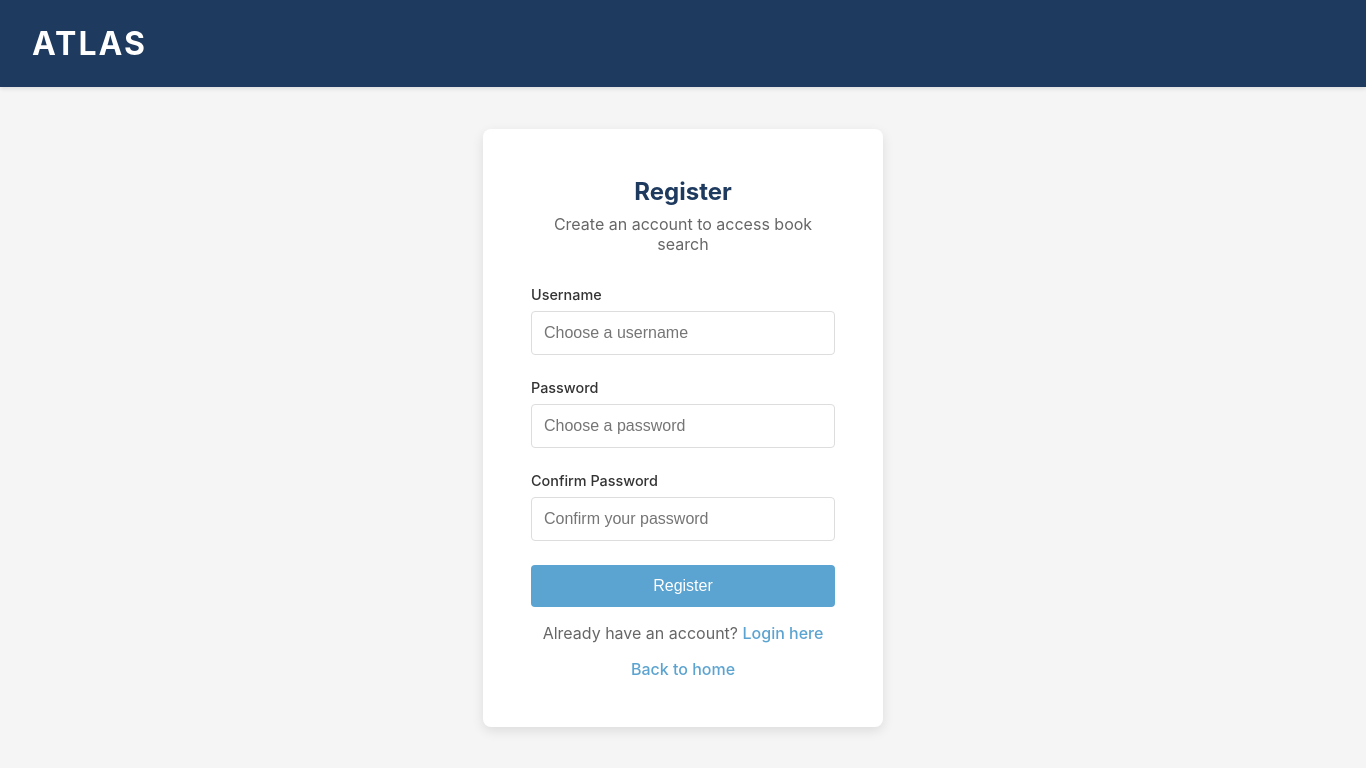
Test case: RegisterPage › Form Validation › should show error for empty fields
Step 1. Click the button "Register" → (683,586), box 531,564 -> 835,606
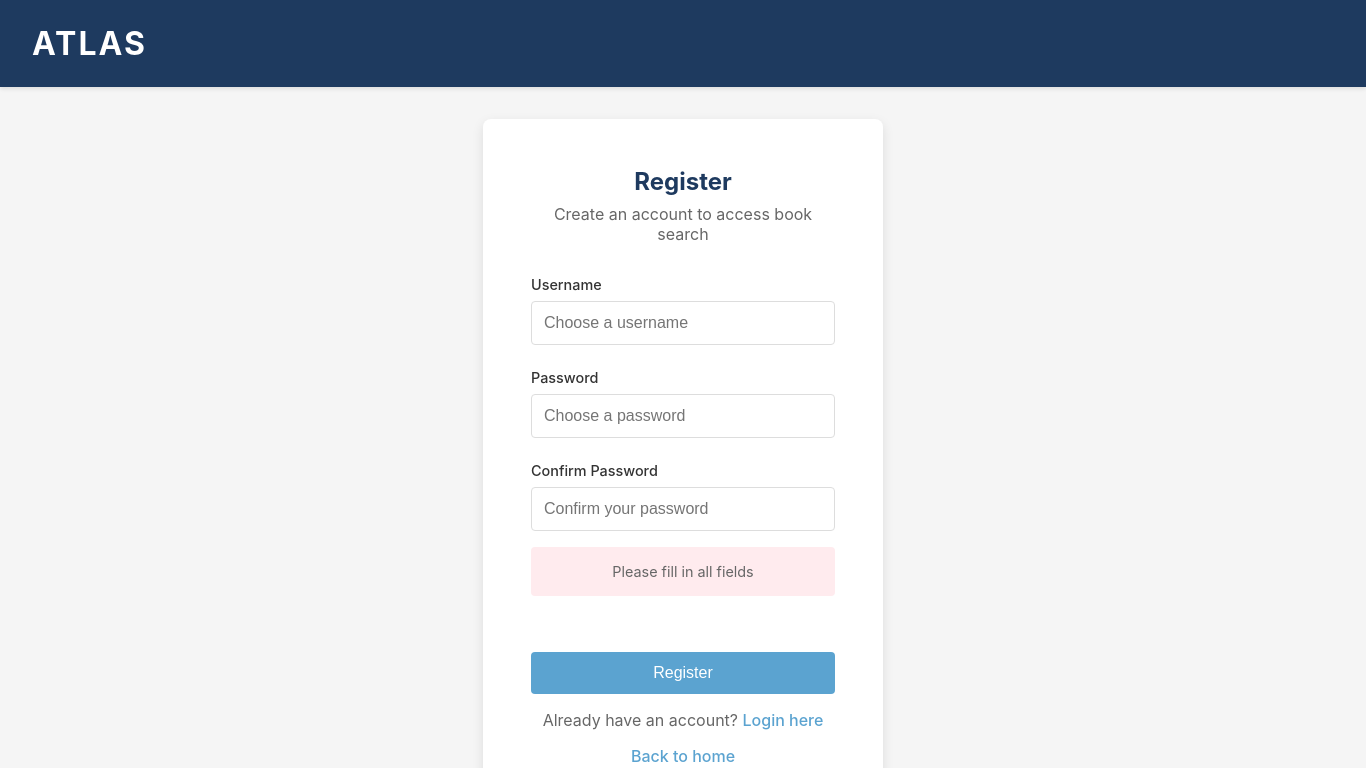
Check: the text "Please fill in all fields" is shown, box 531,547 -> 835,596
